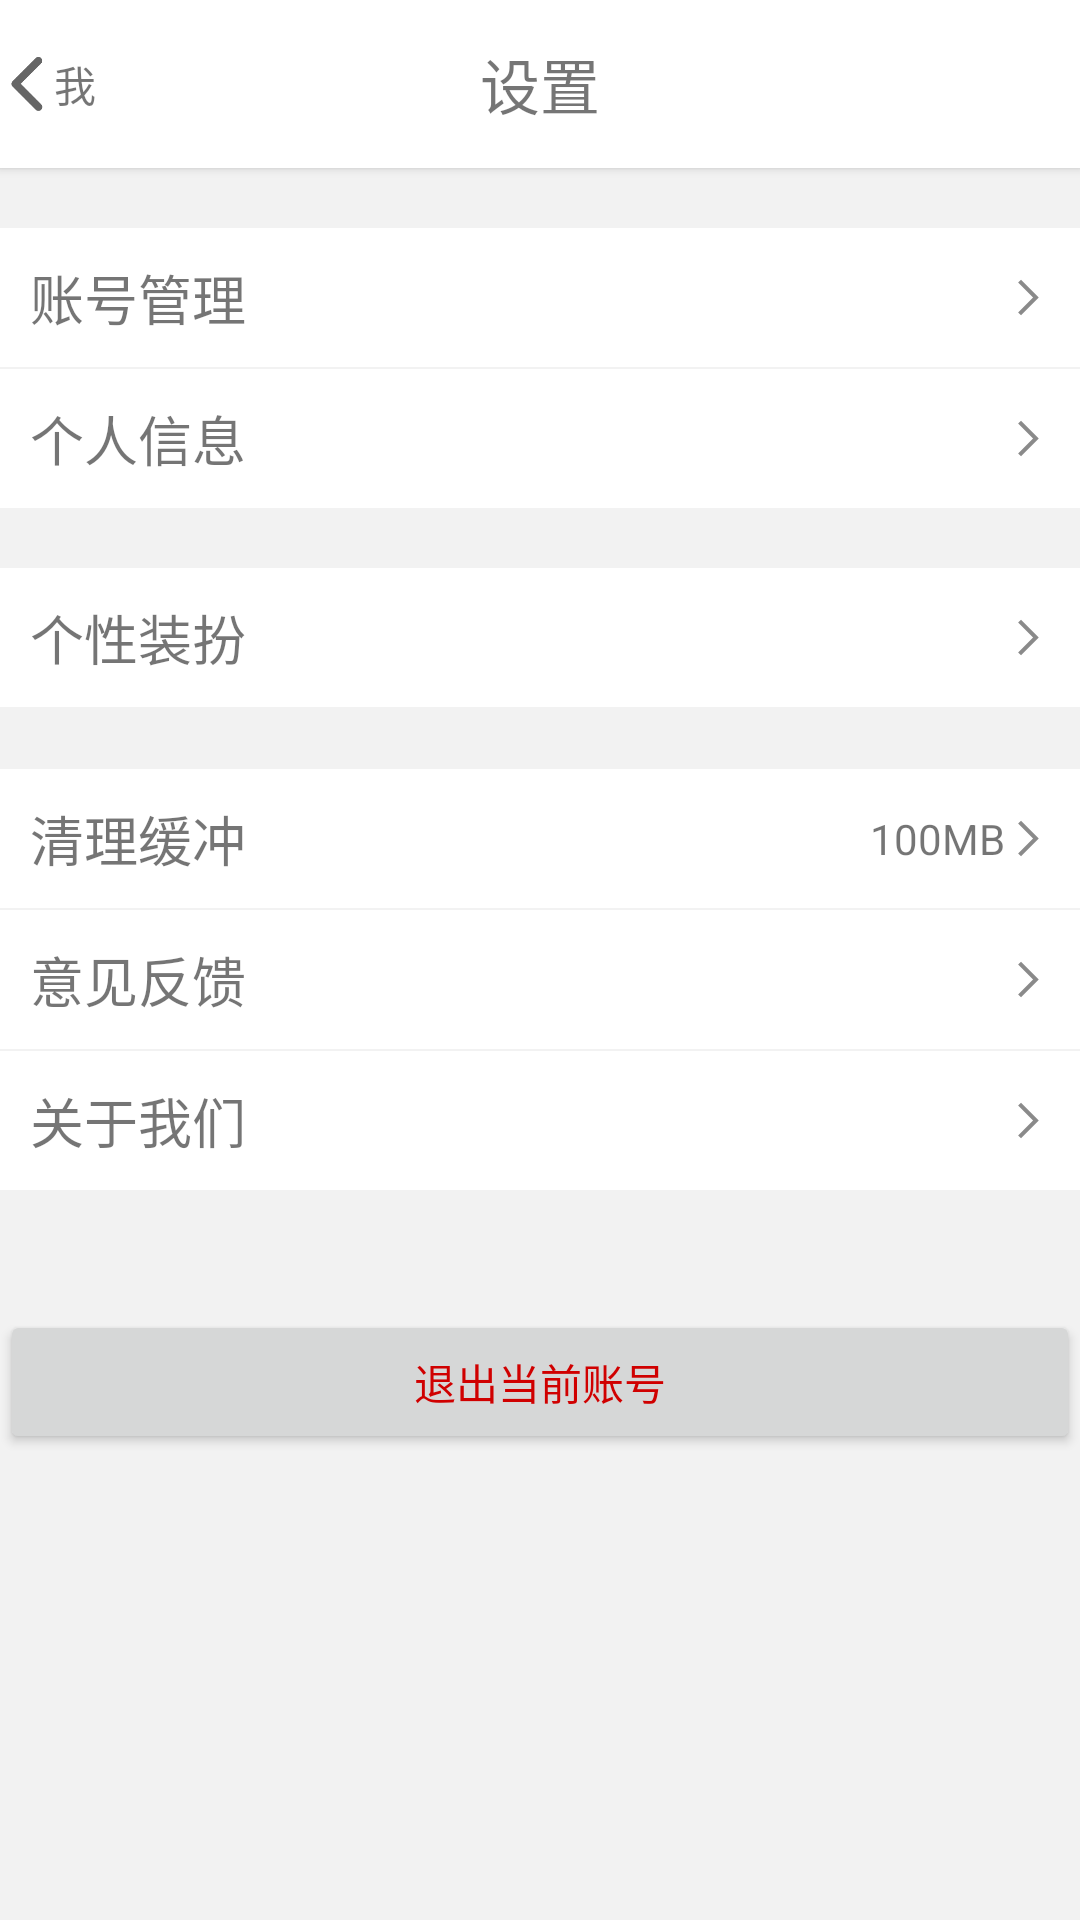

Icons on this 1080w x 1920h Android screen, each with the point to tap as [x,y]:
back: [27,84]
